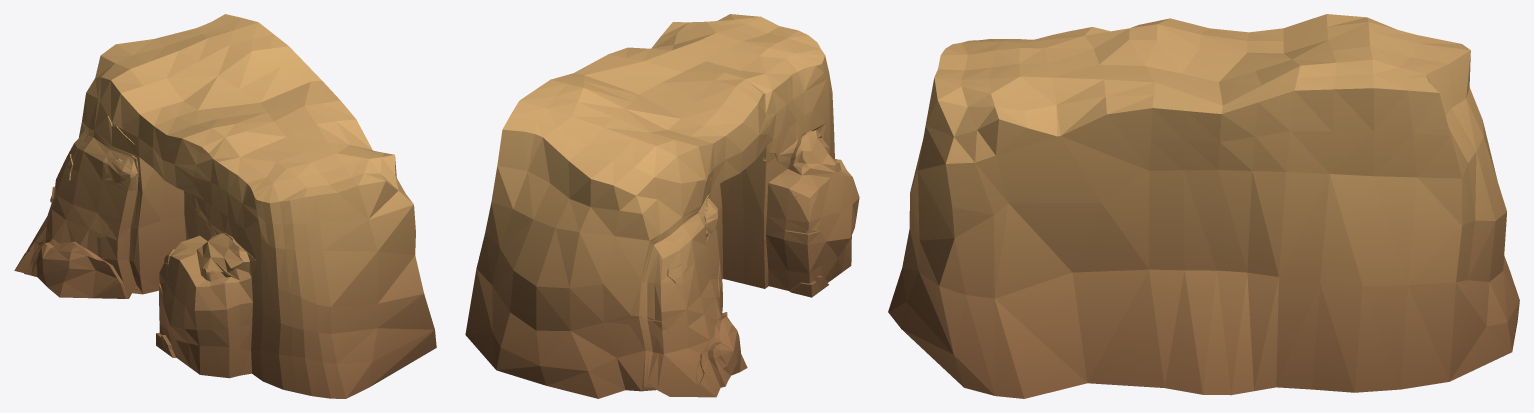
Rendered from rock.fbx.
The picture shows the model from 3 angles, left to right: view 1: azimuth 30°, elevation 25°; view 2: azimuth 150°, elevation 25°; view 3: azimuth 270°, elevation 25°; orthographic projection. The views are drawn at different scales.
Parts seen in each view (by area): view 1: Cube.576; view 2: Cube.576; view 3: Cube.576.
Boxes of the visible parts, x1,y1,x2,y2 form: Cube.576: (14,14,436,398); Cube.576: (465,14,859,398); Cube.576: (888,14,1519,398).
Bounding box in the file's own units: 96.89 × 75.87 × 151.
Materials: 1 (1 with a texture image).
